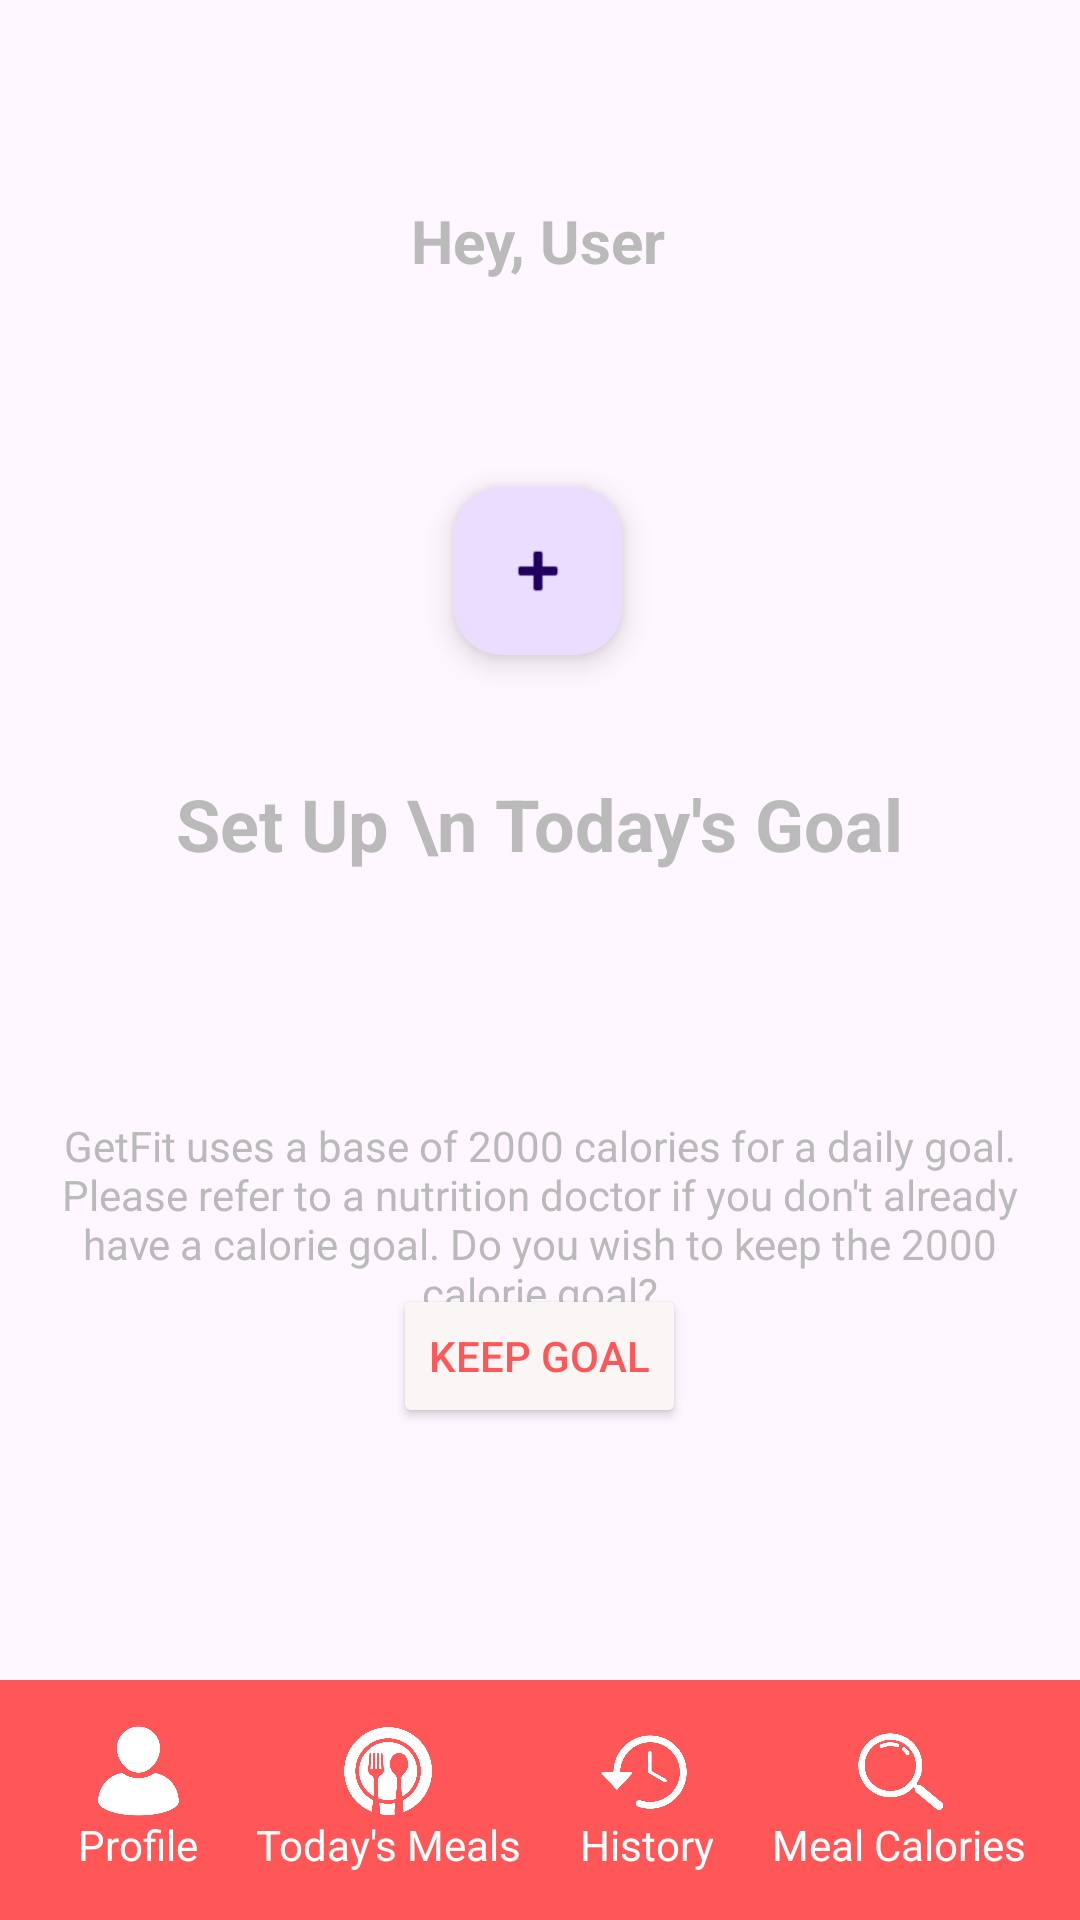

Locate icon controls on the screen. Image size 1080*1920, boxes as {"left": x1, "top": y1, "right": x2, "bottom": y2}.
Add: {"left": 454, "top": 487, "right": 622, "bottom": 655}
